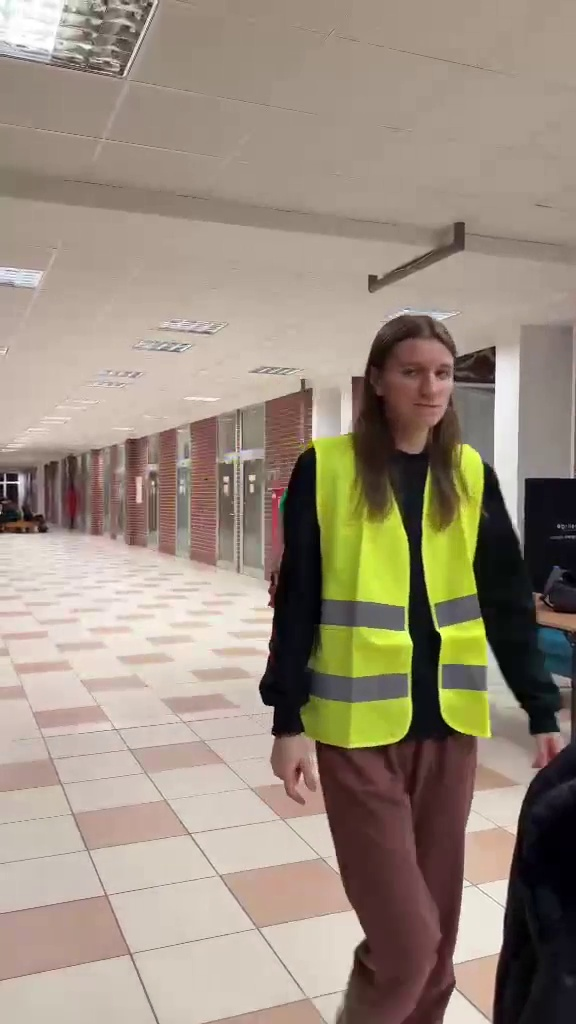vest: (267, 315, 555, 980)
